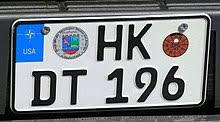1: (102, 66, 131, 105)
6: (161, 65, 188, 100)
9: (131, 67, 161, 104)
D: (29, 69, 58, 108)
H: (93, 24, 125, 63)
K: (125, 22, 154, 61)
T: (62, 67, 90, 107)
